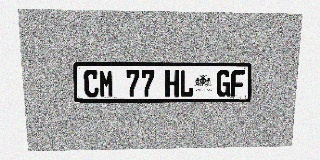7: (125, 70, 140, 97), (140, 70, 155, 97)
C: (84, 70, 99, 97)
F: (230, 70, 245, 97)
G: (216, 70, 231, 97)
H: (165, 70, 179, 97)
L: (180, 70, 194, 97)
M: (99, 70, 114, 97)
